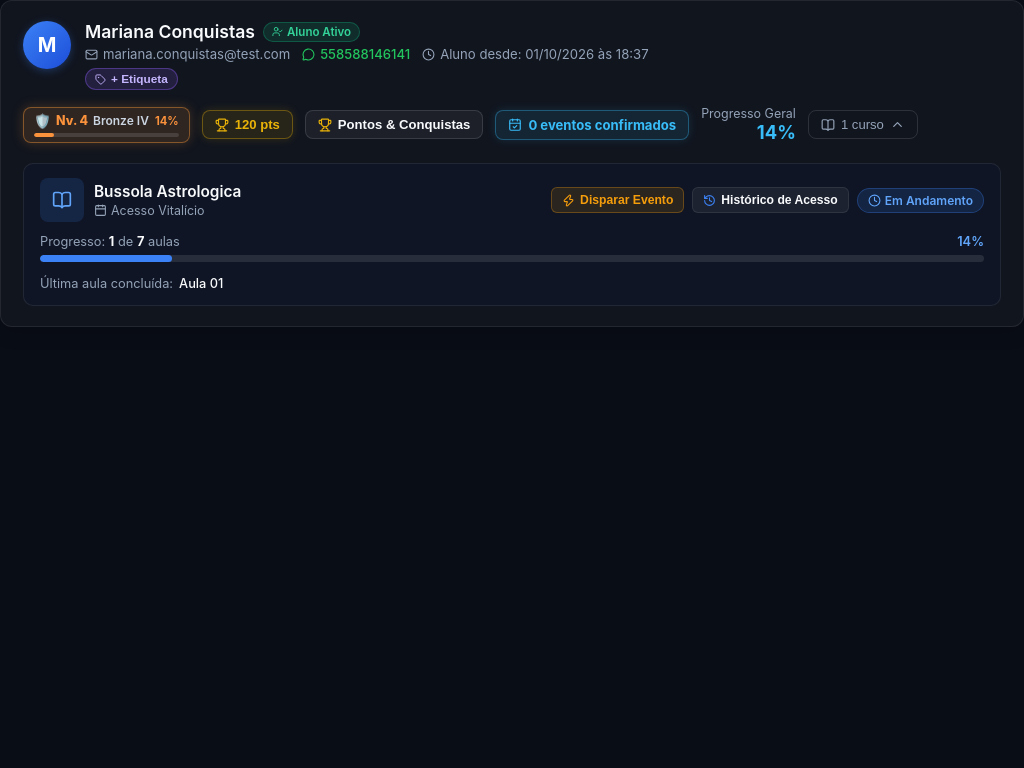
Test: StudentCard Component › opens StudentGamificationHistoryModal when clicking "Pontos & Conquistas" button
Click the button with test id "open-gamification-history-btn-42" at (394, 124), box [305,110,483,139]
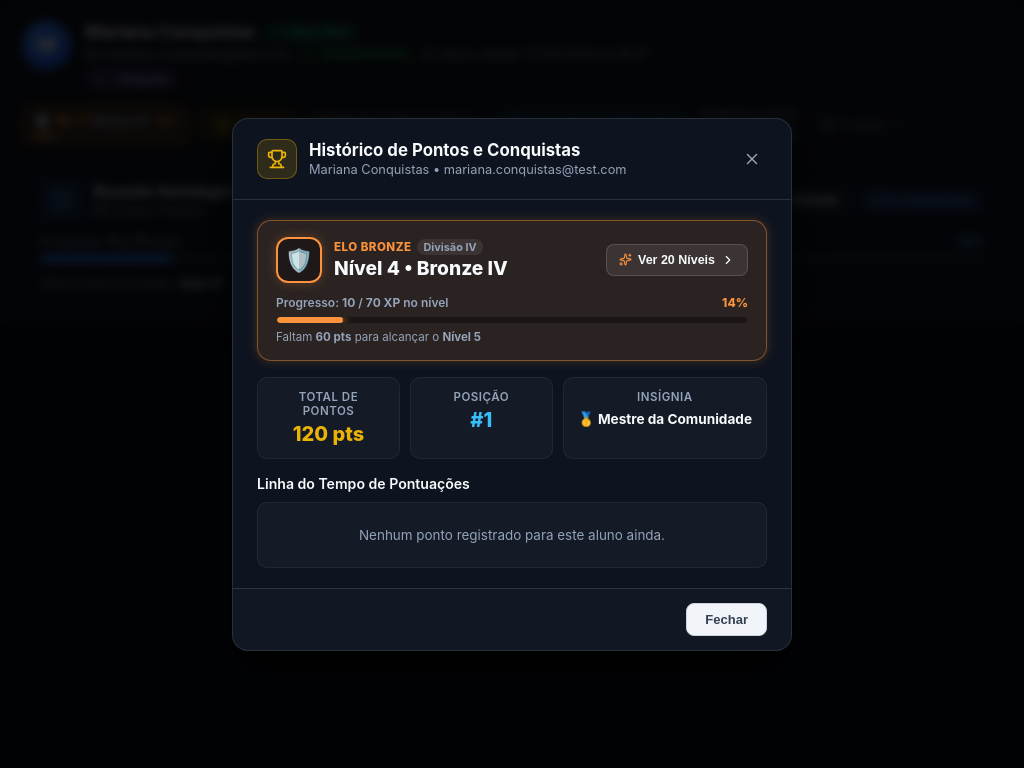
Expected: the heading "Histórico de Pontos e Conquistas" is shown, [309,140,626,160]
Expected: the text with test id "modal-total-points" reads "120 pts", [293,422,364,446]
